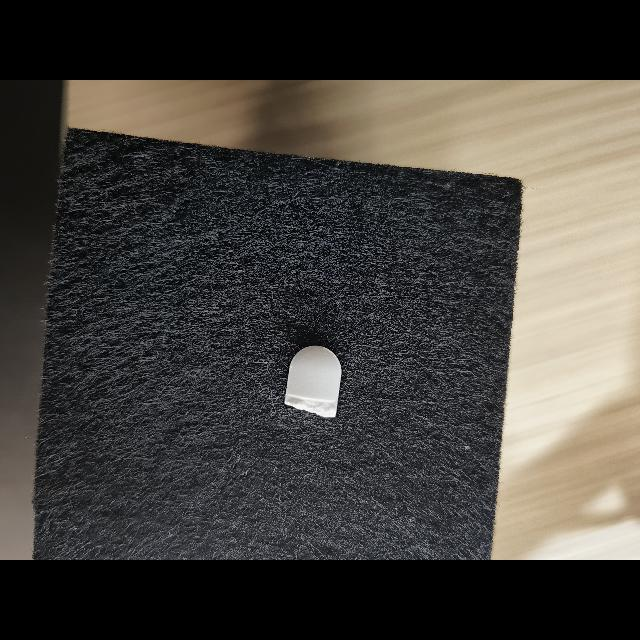Chipped Pill: (284, 346, 342, 417)
